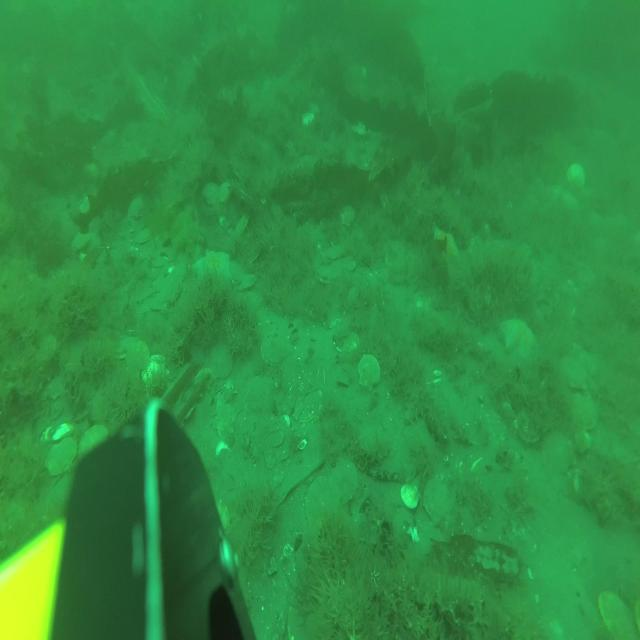holothurian: (400, 394, 424, 429)
scallop: (305, 474, 342, 535), (596, 585, 636, 640), (542, 428, 576, 480), (515, 404, 552, 447), (43, 435, 77, 478), (241, 374, 272, 416), (423, 476, 451, 522), (569, 390, 598, 434), (332, 458, 358, 506), (207, 339, 235, 383), (77, 422, 110, 459), (260, 335, 294, 370), (141, 349, 169, 390), (292, 389, 324, 424), (125, 337, 149, 381), (559, 354, 589, 389), (357, 352, 382, 392), (214, 401, 237, 439), (334, 328, 361, 358), (345, 281, 370, 312), (42, 372, 66, 404), (566, 157, 587, 192), (160, 272, 182, 305), (399, 481, 420, 512), (236, 269, 257, 295), (202, 179, 221, 207), (315, 264, 335, 288), (70, 233, 90, 254), (235, 212, 249, 239), (127, 197, 143, 220), (218, 180, 233, 204), (340, 205, 355, 228), (136, 228, 155, 246), (326, 241, 344, 259)
starfish: (498, 308, 538, 366), (190, 246, 233, 296)
